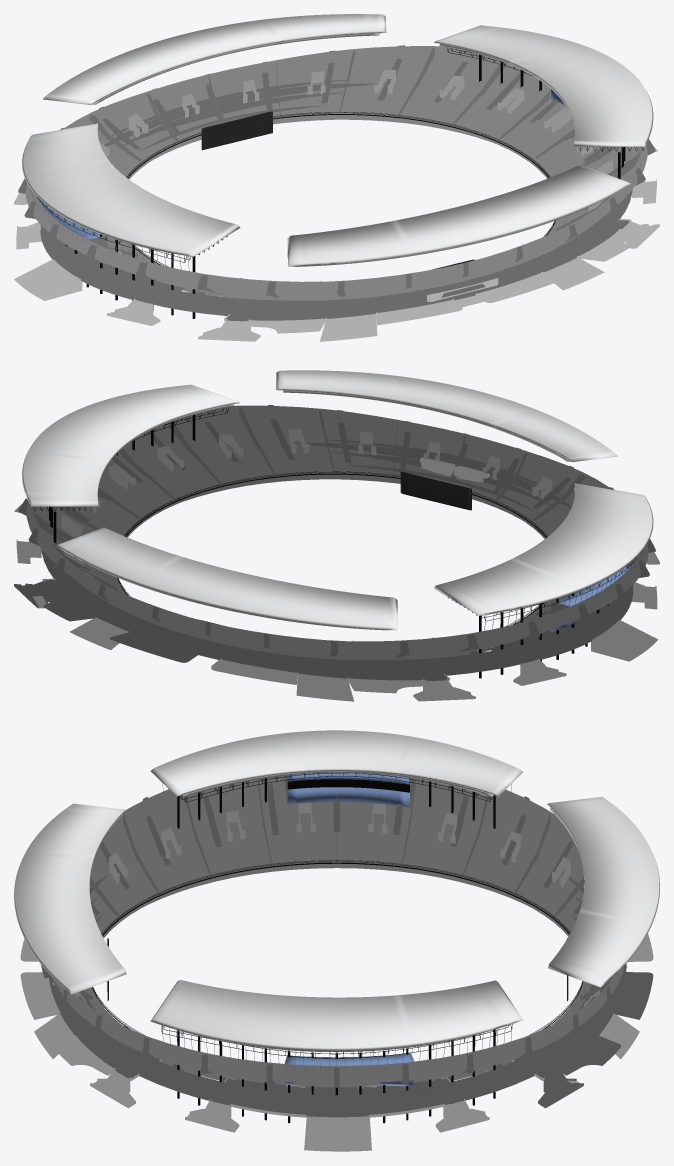
The model's file is std.fbx.
3 renders of one model, top to bottom at view 1: azimuth 30°, elevation 25°; view 2: azimuth 150°, elevation 25°; view 3: azimuth 270°, elevation 25°, orthographic. The views are drawn at different scales.
Parts seen in each view (by area): view 1: Loft01, Arc02, Arc02_1, Loft13, Arc05, Arc02_2, Line11, Line17, Loft12, Line09_1, Line85, Line92 (+12 smaller); view 2: Loft01, Arc02, Arc02_2, Loft13, Arc05, Arc02_1, Line11, Line17, Loft12, Line09, Line13, Line72 (+12 smaller); view 3: Loft01, Arc05, Arc02, Arc02_1, Arc02_2, Loft13, Line11, Loft05, Loft11, Line17, Line13, Line85 (+14 smaller).
Boxes of the visible parts, left/top/right/bottom form: Loft01: left=25, top=46, right=647, bottom=300; Arc02: left=22, top=123, right=240, bottom=256; Arc02_1: left=287, top=164, right=630, bottom=266; Loft13: left=40, top=80, right=632, bottom=317; Arc05: left=434, top=25, right=653, bottom=146; Arc02_2: left=43, top=14, right=386, bottom=104; Line11: left=18, top=45, right=655, bottom=298; Line17: left=89, top=47, right=639, bottom=281; Loft12: left=14, top=259, right=82, bottom=300; Line09_1: left=201, top=111, right=272, bottom=150; Line85: left=477, top=230, right=629, bottom=300; Line92: left=246, top=300, right=461, bottom=331; Loft01: left=26, top=405, right=648, bottom=660; Arc02: left=433, top=483, right=653, bottom=615; Arc02_2: left=56, top=527, right=397, bottom=630; Loft13: left=41, top=439, right=633, bottom=677; Arc05: left=22, top=384, right=239, bottom=506; Arc02_1: left=276, top=370, right=617, bottom=461; Line11: left=18, top=405, right=655, bottom=658; Line17: left=34, top=407, right=633, bottom=641; Loft12: left=591, top=620, right=657, bottom=661; Line09: left=400, top=471, right=471, bottom=510; Line13: left=44, top=590, right=196, bottom=660; Line72: left=212, top=659, right=427, bottom=690; Loft01: left=53, top=776, right=624, bottom=1087; Arc05: left=150, top=980, right=522, bottom=1051; Arc02: left=150, top=730, right=522, bottom=797; Arc02_1: left=14, top=803, right=126, bottom=994; Arc02_2: left=547, top=796, right=659, bottom=987; Loft13: left=49, top=872, right=625, bottom=1115; Line11: left=62, top=784, right=626, bottom=1087; Loft05: left=287, top=773, right=410, bottom=807; Loft11: left=304, top=1116, right=371, bottom=1151; Line17: left=78, top=779, right=611, bottom=1027; Line13: left=560, top=973, right=652, bottom=1072; Line85: left=21, top=973, right=113, bottom=1072.
Size of the model in its own units: 147176 by 19643 by 117255.
